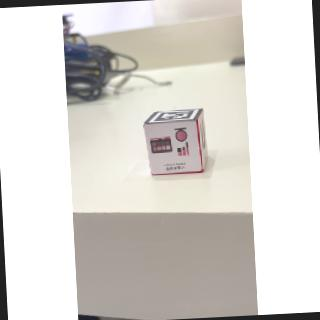Expired_Cosmetic: (147, 121, 201, 178)
